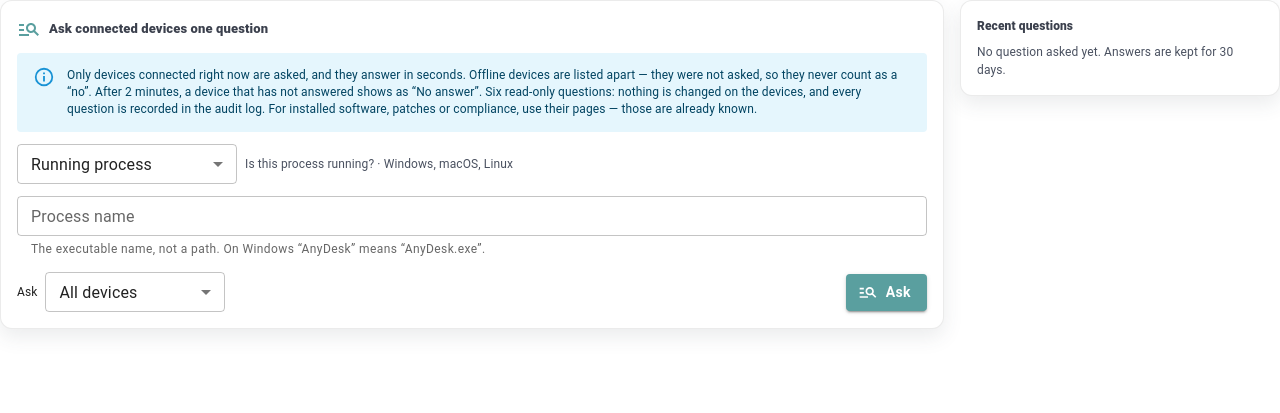
Test: LiveQueryPanel › no manda lo que seguro se rechaza
Type "C:\\Tools\\AnyDesk.exe" into the field labelled "Process name" at (472, 216), box x1=17 y1=196 x2=927 y2=236
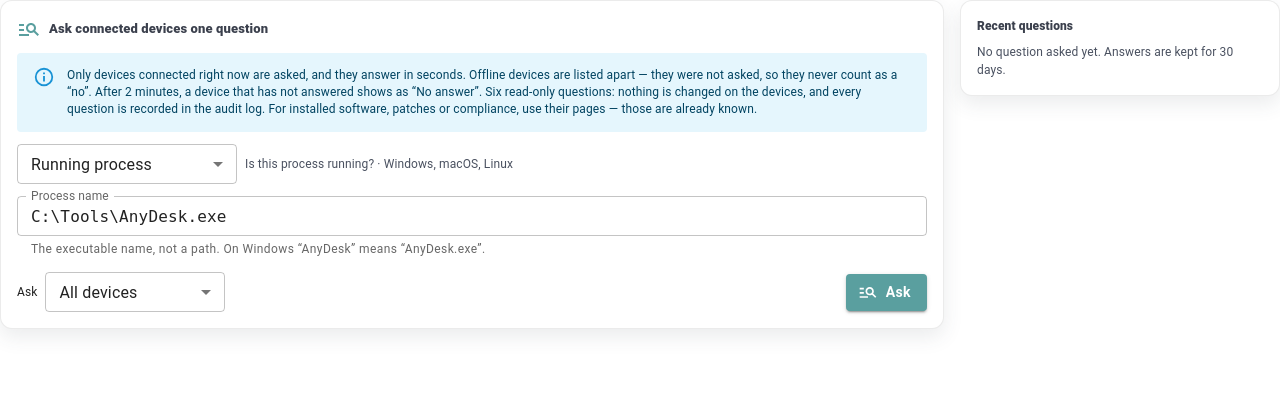
Click the button "Ask" at (886, 292), box x1=846 y1=274 x2=927 y2=311
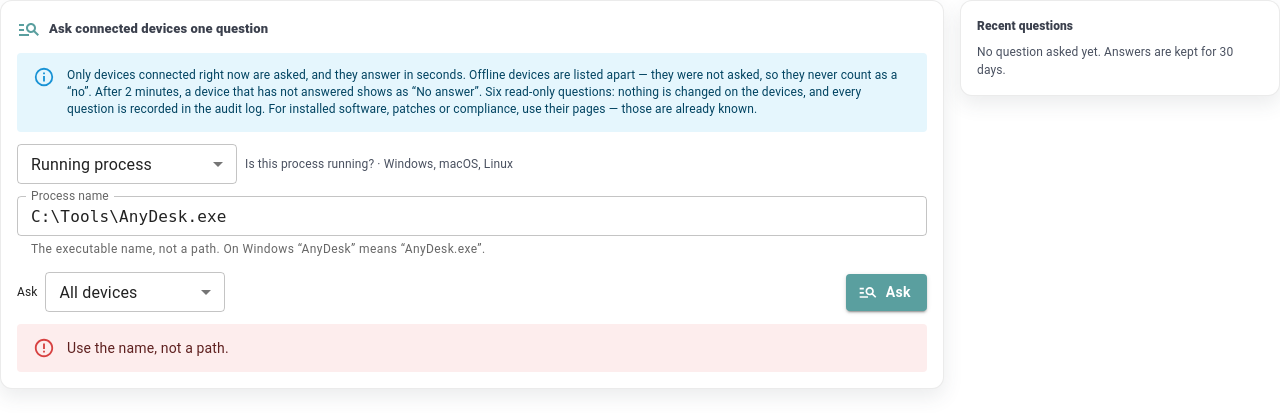
Check: the text "Use the name, not a path." is shown, box x1=67 y1=340 x2=229 y2=356
